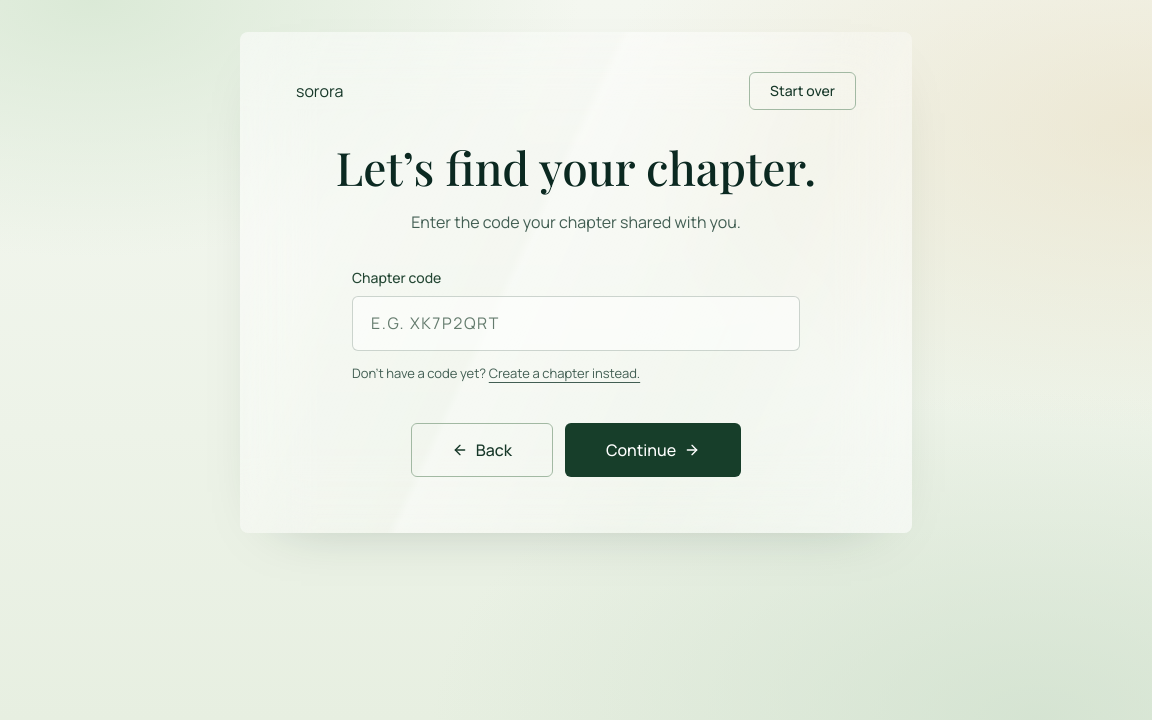
Test: switching from join to create clears the chapter-code error
Click the button "Continue".
click(653, 450)  # box [565,423,741,477]
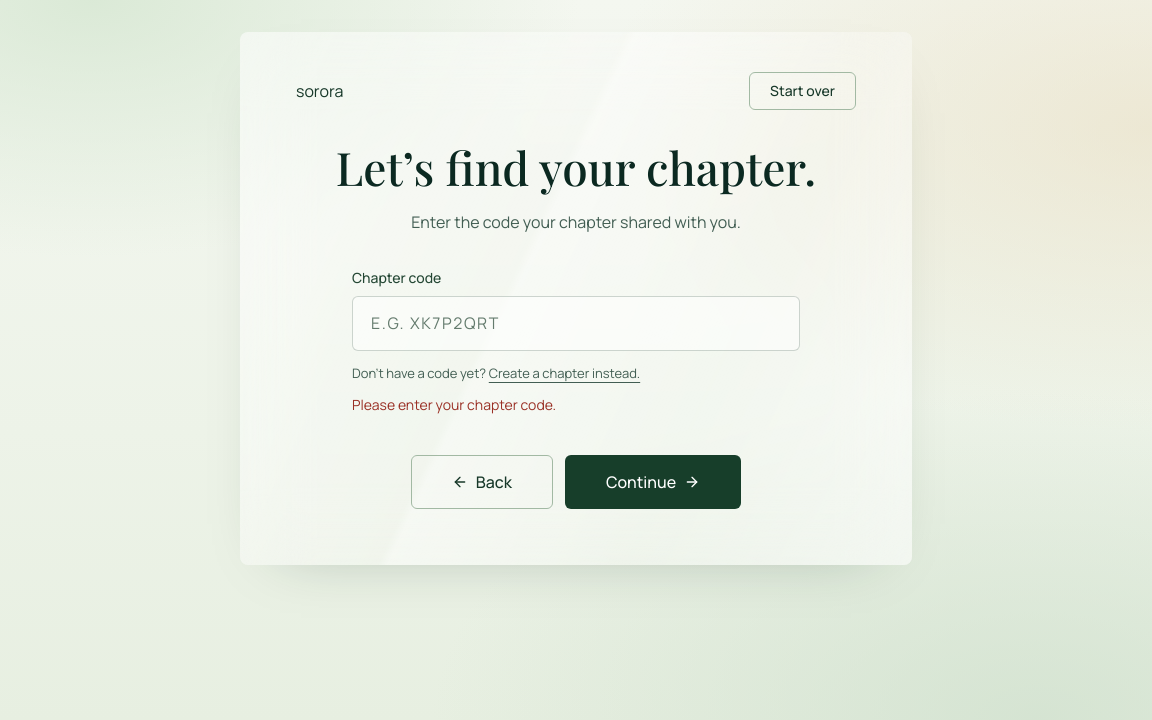
Now the text "Please enter your chapter code." is shown, box [352,395,556,414]
Click the button "Create a chapter instead.".
click(564, 373)  # box [489,363,640,383]
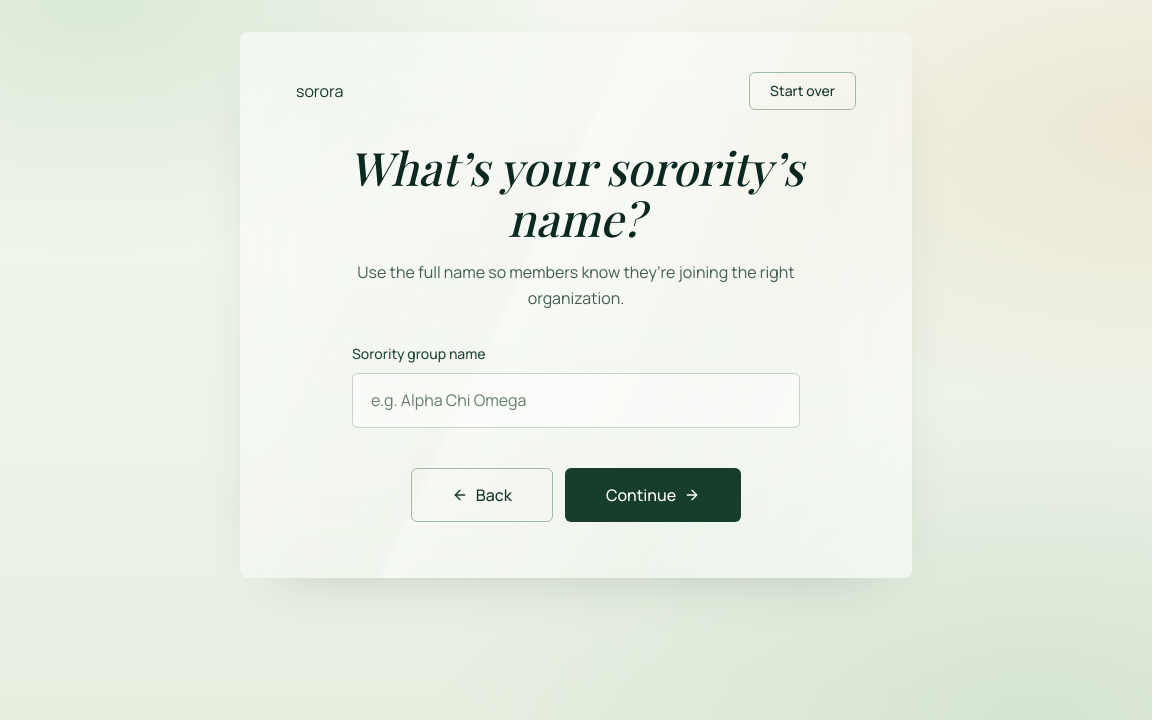
Now the text "Please enter your chapter code." is gone
Click the button "Continue".
click(653, 495)  # box [565,468,741,522]
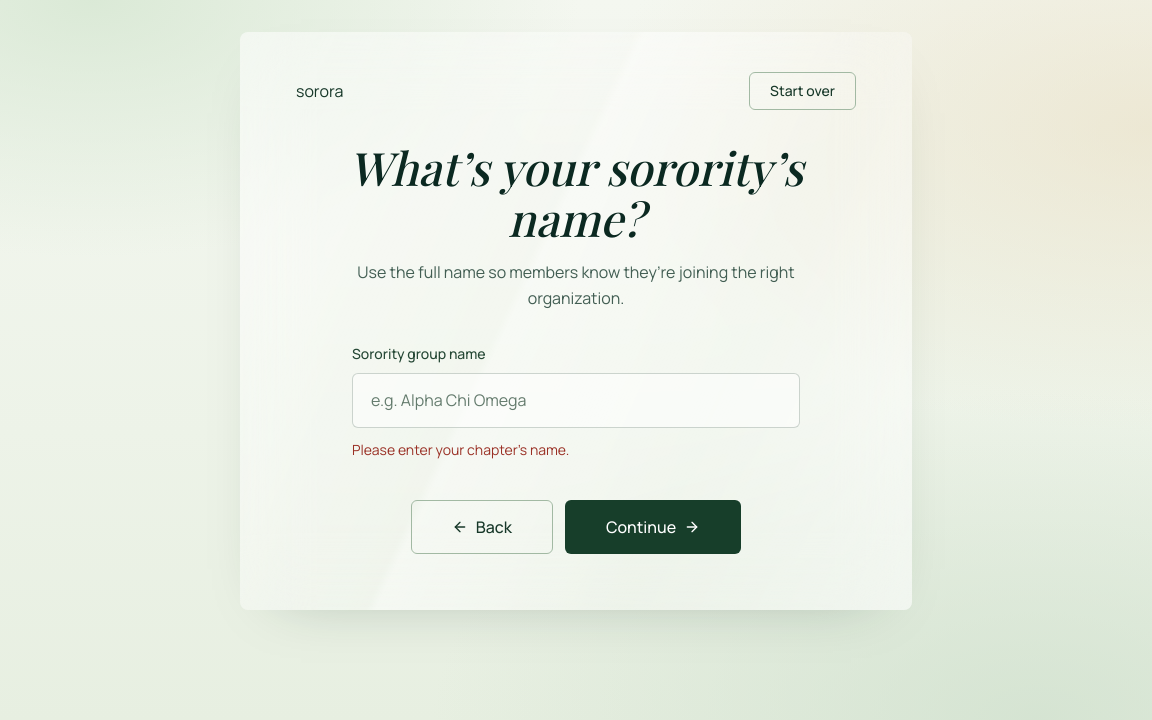
Now the text "Please enter your chapter’s name." is shown, box [352,440,569,459]
